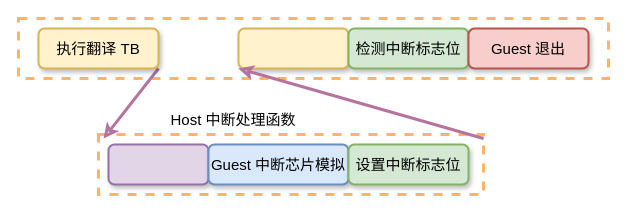
This 627x213 diagram has some shape labels left out. Each missing label, with the centre of its shape:
Host 中断应答: the point at 159,165
执行该 TB 剩余指令: the point at 294,49
